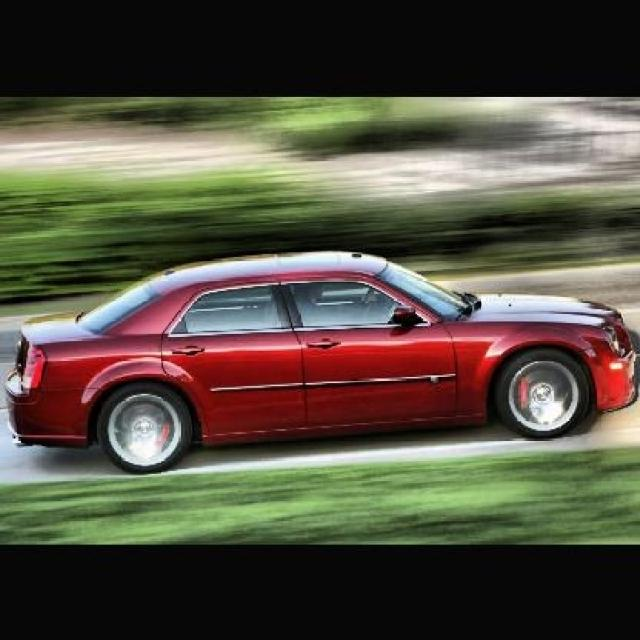maroon: (9, 256, 640, 462)
